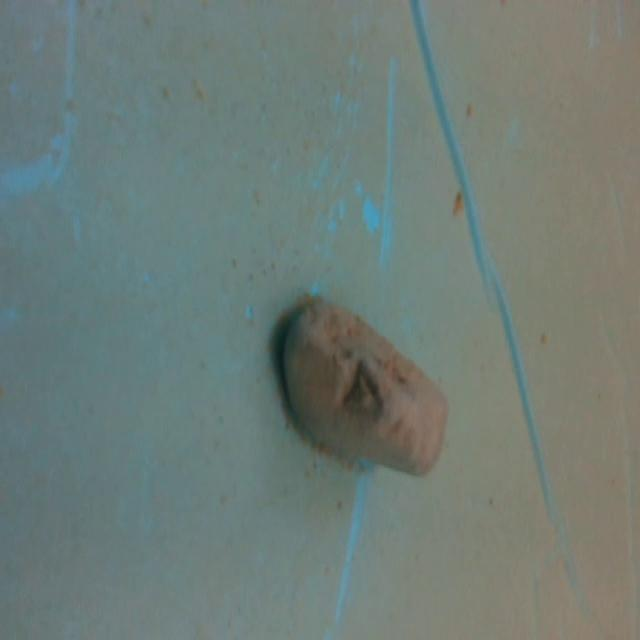rock: (270, 287, 457, 488)
